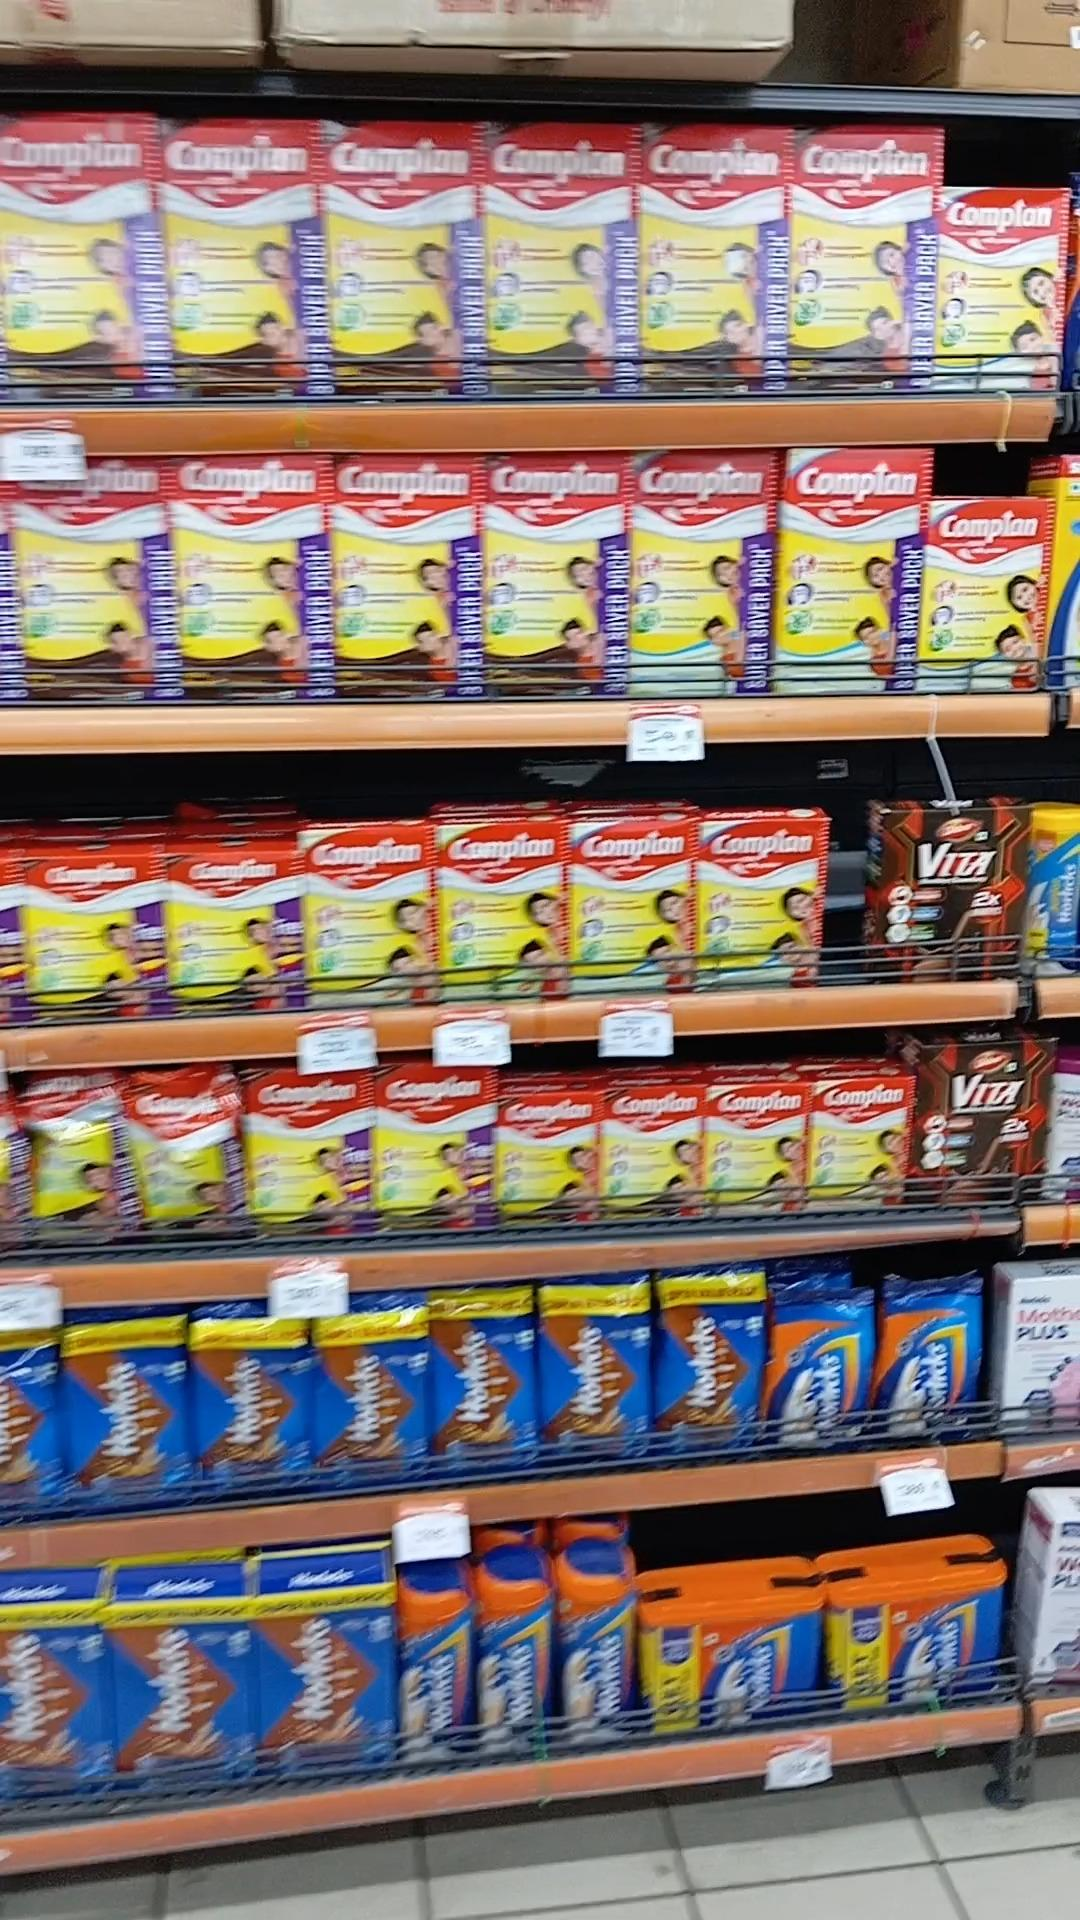COMPLAN_CHOCOLATE_1_KG_PACK: (0, 116, 164, 407), (477, 123, 632, 401), (171, 119, 320, 405), (324, 123, 473, 400), (0, 462, 167, 707), (794, 128, 936, 400), (638, 132, 782, 400), (174, 462, 330, 703), (334, 460, 475, 705), (481, 456, 617, 703), (248, 1072, 367, 1236), (373, 1065, 480, 1230)
COMPLAN_CHOCOLATE_500_GMS_PACK: (32, 847, 157, 1033), (167, 855, 294, 1015), (497, 1092, 597, 1232), (600, 1091, 698, 1211)
COMPLAN_CREAMY_CLASSIC_500_G_PACK: (942, 191, 1065, 390), (919, 505, 1044, 694), (571, 820, 702, 972), (703, 818, 816, 988)
COMPLAN_KESAR_BADAM_500_GMS_PACK: (306, 822, 430, 1001), (708, 1083, 804, 1217), (811, 1079, 906, 1211)
COMPLAN_PISTA_BADAM_500_GMS_PACK: (438, 824, 567, 1001)
COMPLAN_RC_POUCH_700_GMS_12: (21, 1085, 116, 1242), (132, 1079, 218, 1242)
HORLICK_CHOCOLATE_1_KG_PACK: (252, 1592, 386, 1782), (111, 1604, 239, 1796), (0, 1577, 102, 1803)
HORLICK_CHOCOLATE_750_G_POUCH: (65, 1316, 181, 1511), (187, 1317, 301, 1498), (539, 1279, 642, 1472), (659, 1270, 760, 1465), (431, 1295, 534, 1482), (313, 1316, 417, 1489)
HORLICK_CLASSIC_MALT_750_G_POUCH: (770, 1303, 872, 1447), (881, 1287, 977, 1437)
HORLICK_MALT_1_KG_CONTAINER: (650, 1601, 818, 1735), (843, 1592, 994, 1706)
